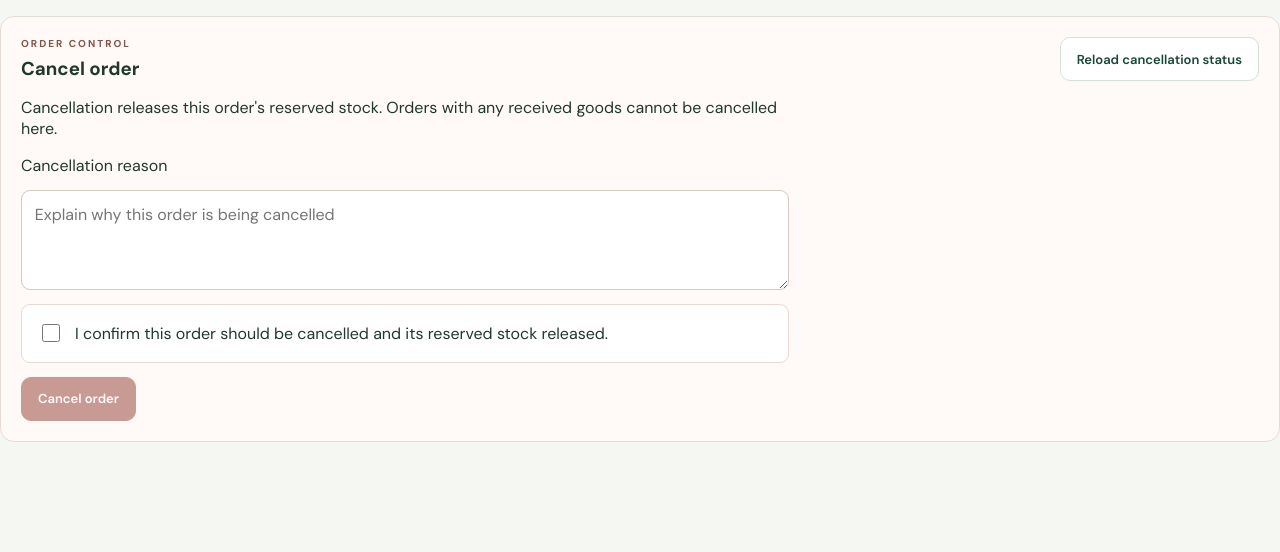
Scenario: Order cancellation › retains a successful cancellation if refreshing the order fails
Type "  Buyer withdrew the order.  " into the text box labelled "Cancellation reason" at (405, 240), box [21,190,789,290]
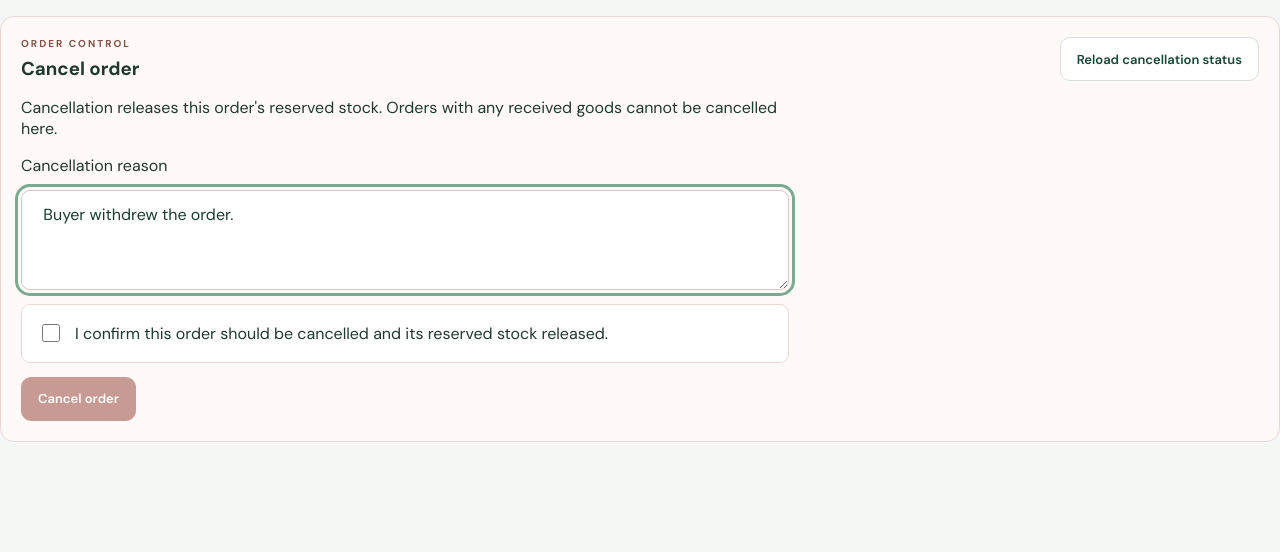
Click the checkbox at (51, 333), box [42,324,60,342]
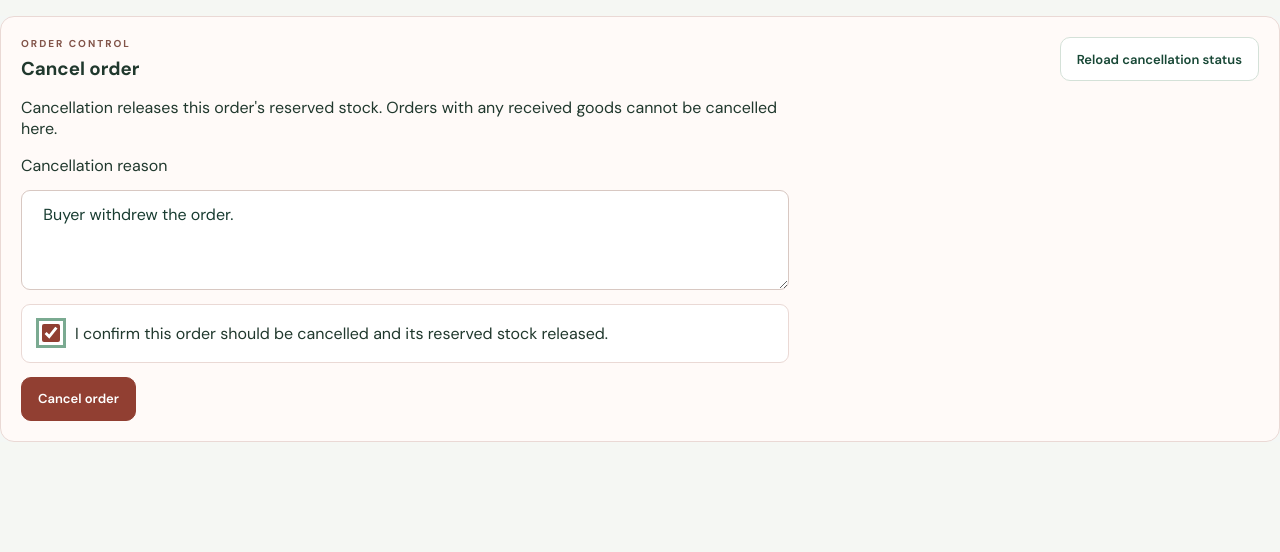
Click the button "Cancel order" at (78, 399), box [21,377,136,421]
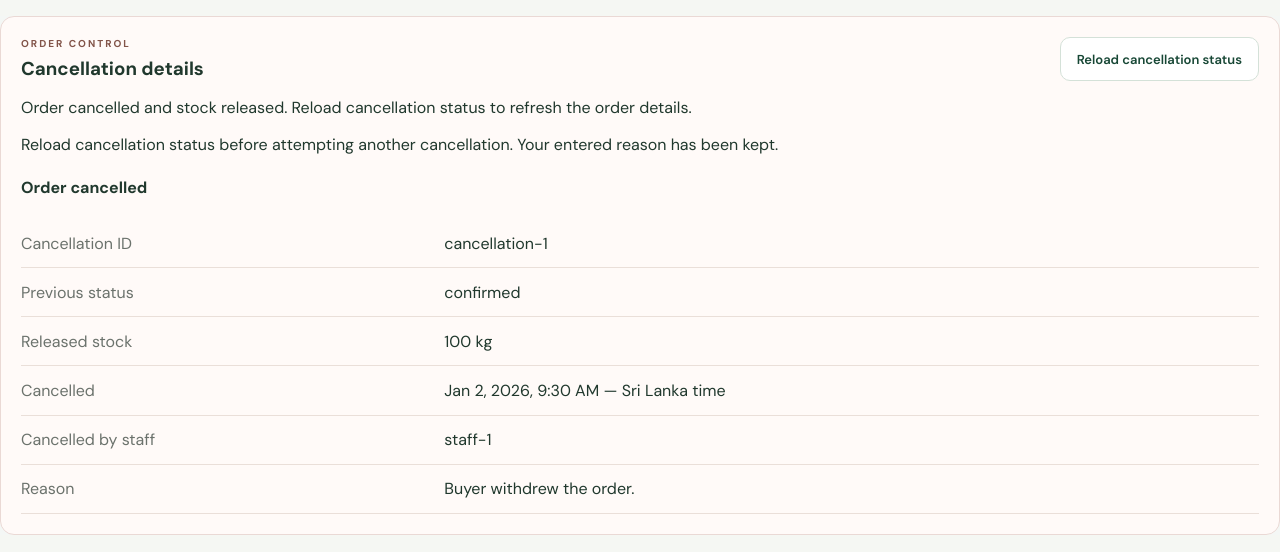
Expected: the text "cancellation-1" is shown, [444,232,548,254]
Expected: the message shows "Order cancelled and stock released.", [21,97,692,118]
Expected: the label labelled "Cancellation reason" is gone
